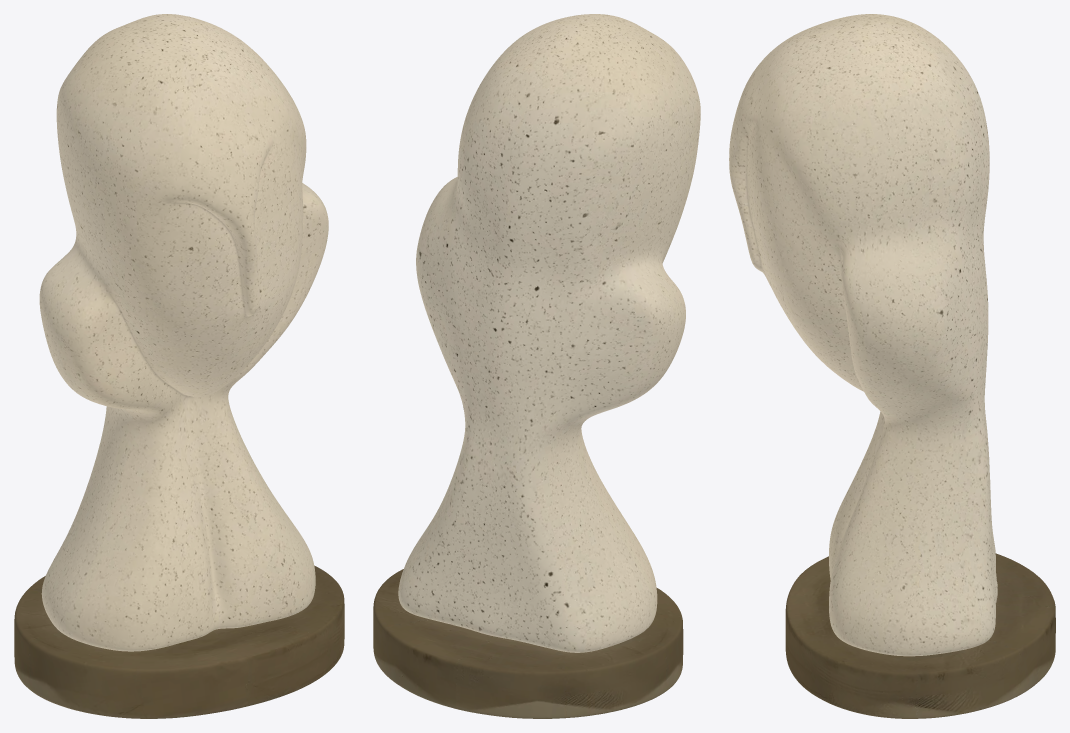
File: White face sculpture.glb
3 renders of one model, left to right at view 1: azimuth 30°, elevation 25°; view 2: azimuth 150°, elevation 25°; view 3: azimuth 270°, elevation 25°, orthographic. The views are drawn at different scales.
Visible parts, largest first — view 1: mesh_node; view 2: mesh_node; view 3: mesh_node.
Boxes of the visible parts, x1,y1,x2,y2 form: mesh_node: [14, 14, 344, 718]; mesh_node: [373, 14, 700, 718]; mesh_node: [729, 14, 1055, 718].
Bounding box in the file's own units: 0.8921 × 1.9 × 0.9155.
Materials: 1 (1 with a texture image).
